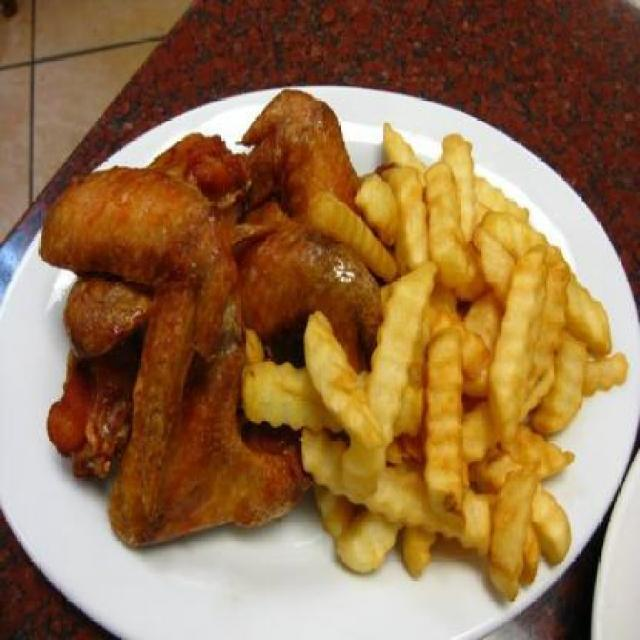Deep fried chicken wing: (45, 90, 362, 518)
French fries: (318, 122, 618, 575)
